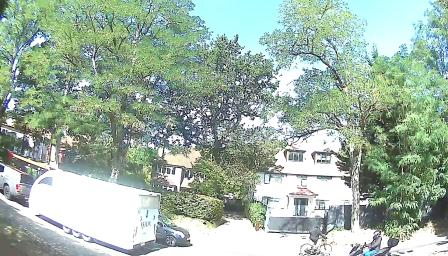Cars: (346, 231, 399, 256), (2, 158, 32, 202), (152, 219, 190, 246)
